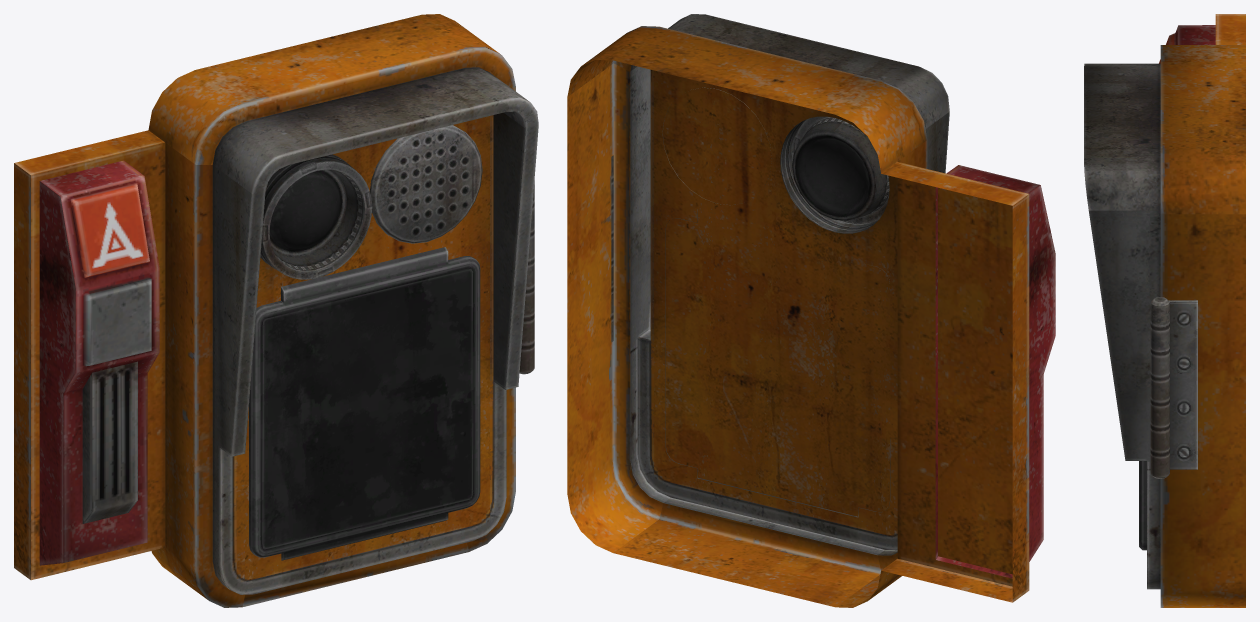
File: emergency_intercom.dae
3 renders of one model, left to right at view 1: azimuth 30°, elevation 25°; view 2: azimuth 150°, elevation 25°; view 3: azimuth 270°, elevation 25°, orthographic. The views are drawn at different scales.
Parts seen in each view (by area): view 1: lp; view 2: lp; view 3: lp.
Part boxes in pixels (<box>): lp: <box>14,14,538,607</box>; lp: <box>567,14,1055,607</box>; lp: <box>1084,14,1245,607</box>.
Bounding box in the file's own units: 0.5969 × 0.6079 × 0.1966.
